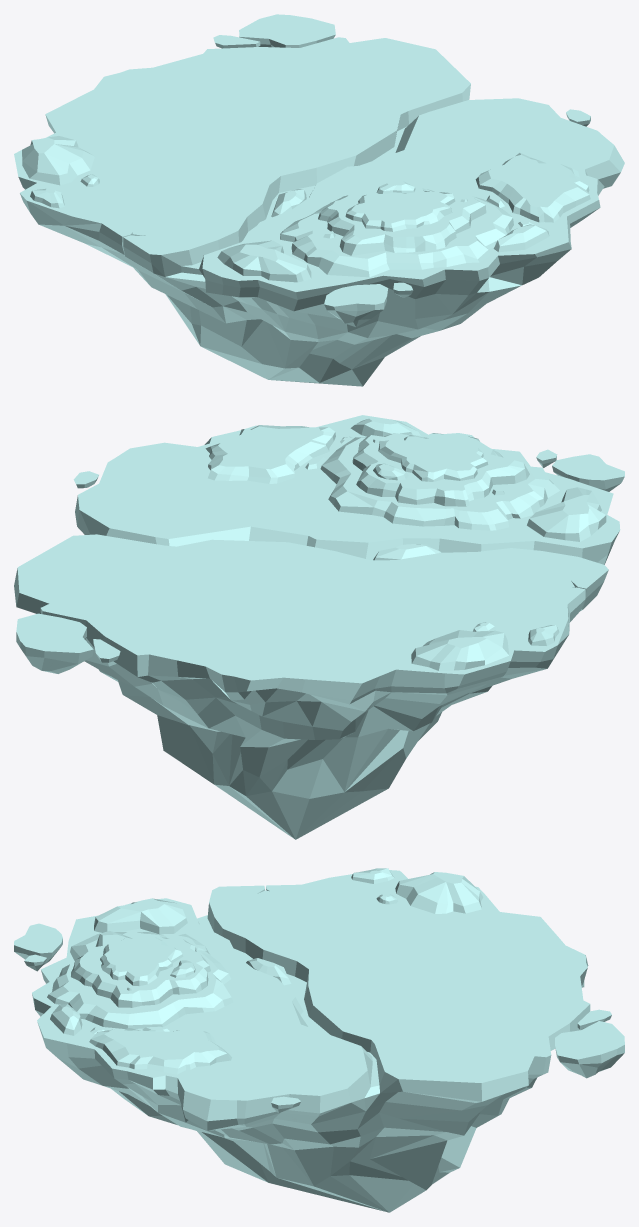
File: main_iceberg.fbx
3 renders of one model, top to bottom at view 1: azimuth 30°, elevation 25°; view 2: azimuth 150°, elevation 25°; view 3: azimuth 270°, elevation 25°, orthographic. The views are drawn at different scales.
Visible parts, largest first — view 1: main_iceberg, main_mountain_1, main_mountain_2, main_mountain_4, main_mountain_3, little_mountain_8, little_mountain_7, poti_iceberg1, poti_iceberg, poti_iceberg3, river_iceberg; view 2: main_iceberg, main_mountain_1, main_mountain_2, main_mountain_4, main_mountain_3, poti_iceberg1, little_mountain_8, little_mountain_7, poti_iceberg, poti_iceberg3, river_iceberg; view 3: main_iceberg, main_mountain_1, main_mountain_4, main_mountain_2, poti_iceberg1, main_mountain_3, little_mountain_8, little_mountain_7, poti_iceberg, poti_iceberg3, river_iceberg, river_iceberg2.
Boxes of the visible parts, x1,y1,x2,y2 form: main_iceberg: (14, 37, 624, 386); main_mountain_1: (280, 185, 513, 277); main_mountain_2: (318, 182, 486, 255); main_mountain_4: (475, 153, 590, 222); main_mountain_3: (345, 191, 455, 231); little_mountain_8: (22, 136, 94, 185); little_mountain_7: (217, 240, 311, 282); poti_iceberg1: (239, 14, 335, 47); poti_iceberg: (324, 284, 388, 326); poti_iceberg3: (493, 224, 549, 252); river_iceberg: (271, 189, 306, 217); main_iceberg: (14, 415, 620, 839); main_mountain_1: (320, 433, 559, 530); main_mountain_2: (352, 434, 529, 506); main_mountain_4: (205, 425, 335, 483); main_mountain_3: (378, 434, 488, 481); poti_iceberg1: (16, 613, 93, 673); little_mountain_8: (411, 630, 509, 670); little_mountain_7: (527, 487, 606, 541); poti_iceberg: (552, 454, 624, 491); poti_iceberg3: (350, 418, 420, 436); river_iceberg: (373, 544, 440, 560); main_iceberg: (32, 870, 590, 1212); main_mountain_1: (47, 931, 233, 1028); main_mountain_4: (89, 1028, 231, 1074); main_mountain_2: (71, 930, 210, 1007); poti_iceberg1: (555, 1021, 624, 1078); main_mountain_3: (100, 936, 183, 985); little_mountain_8: (395, 872, 483, 913); little_mountain_7: (94, 898, 187, 934); poti_iceberg: (14, 923, 62, 964); poti_iceberg3: (50, 1004, 82, 1035); river_iceberg: (246, 958, 291, 985); river_iceberg2: (351, 868, 393, 883).
Size of the model in its own units: 46.11 by 23.44 by 50.48.
